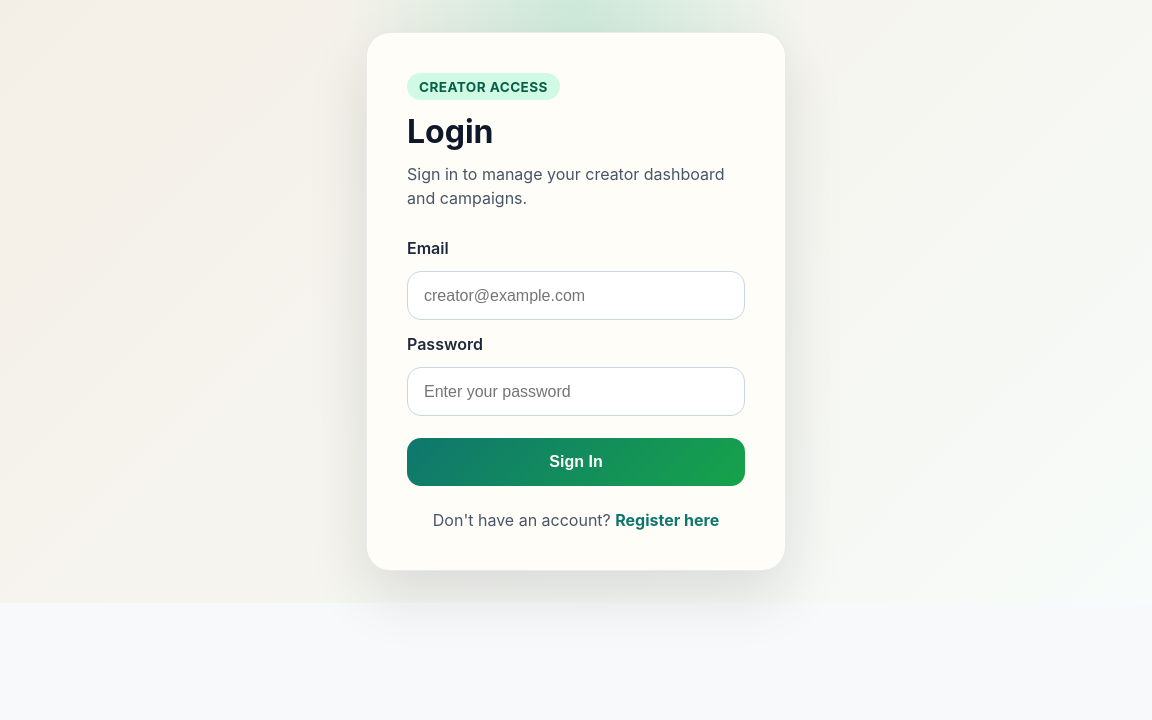
Scenario: LoginForm › shows a validation error and blocks submission when fields are empty
Click the button "Sign In" at (576, 462), box [407, 438, 745, 486]
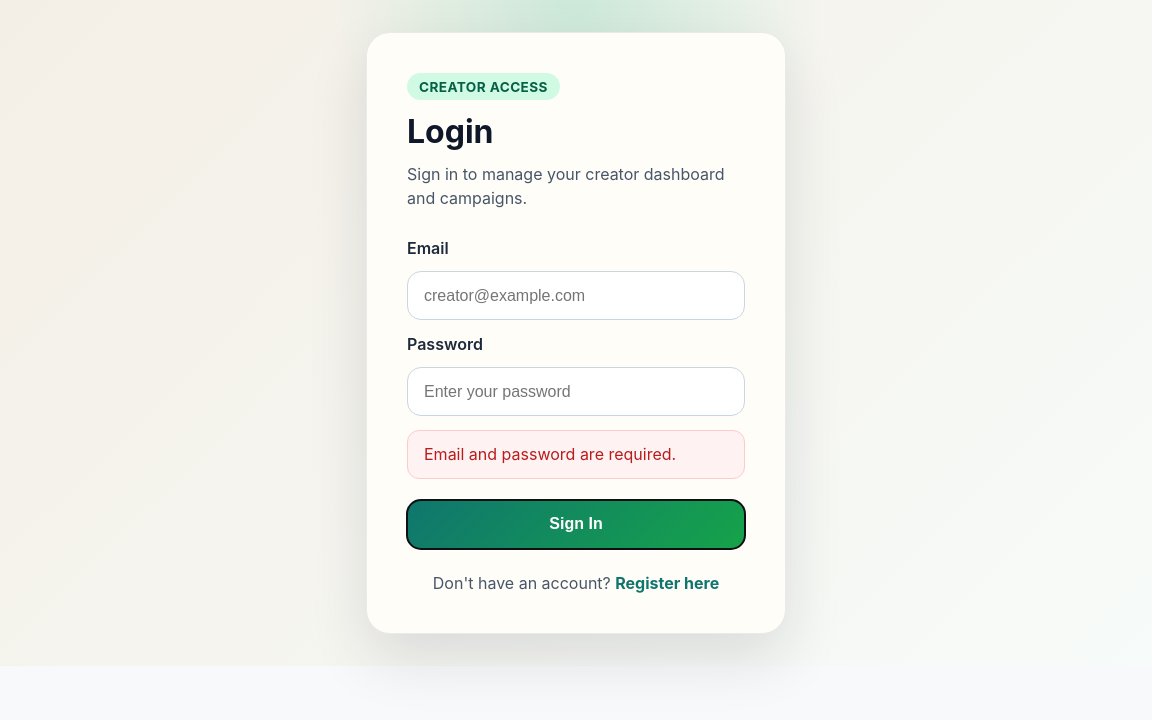
Expected: the message shows "Email and password are required", [424, 444, 676, 464]
